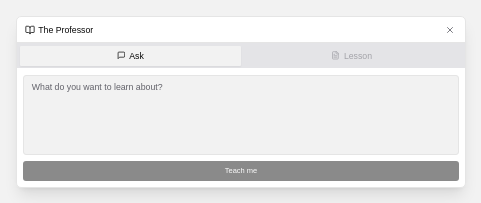
Scenario: Professor › allows toggling sections
Step 1. Type "javascript promises" into the text box with placeholder "What do you want to learn about?" → {"x": 241, "y": 114}, box [23,74,459,154]
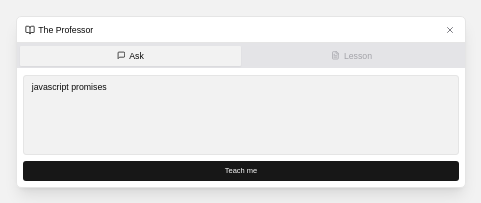
Step 2. Click the button "Teach me" → {"x": 241, "y": 171}, box [23,161,459,181]
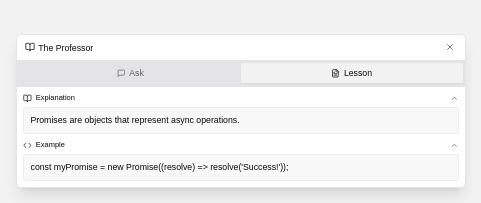
Expected: the text "Explanation" is shown, [23,93,75,103]
Expected: the text "Promises are objects that represent async operations." is shown, [30,115,240,125]
Step 3. Click the button "Explanation" → {"x": 55, "y": 98}, box [23,93,459,103]
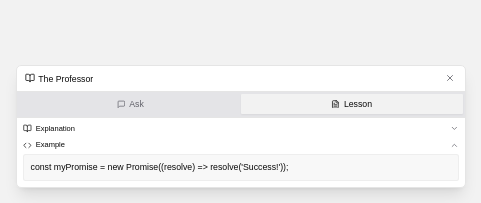
Expected: the text "Promises are objects" is gone
Step 4. Click the button "Explanation" → {"x": 55, "y": 128}, box [23,124,459,134]
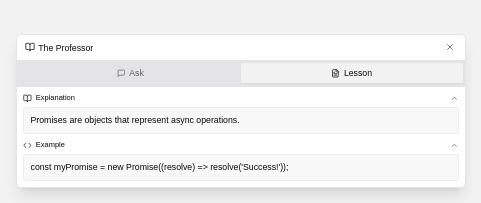
Expected: the text "Promises are objects that represent async operations." is shown, [30,115,240,125]
